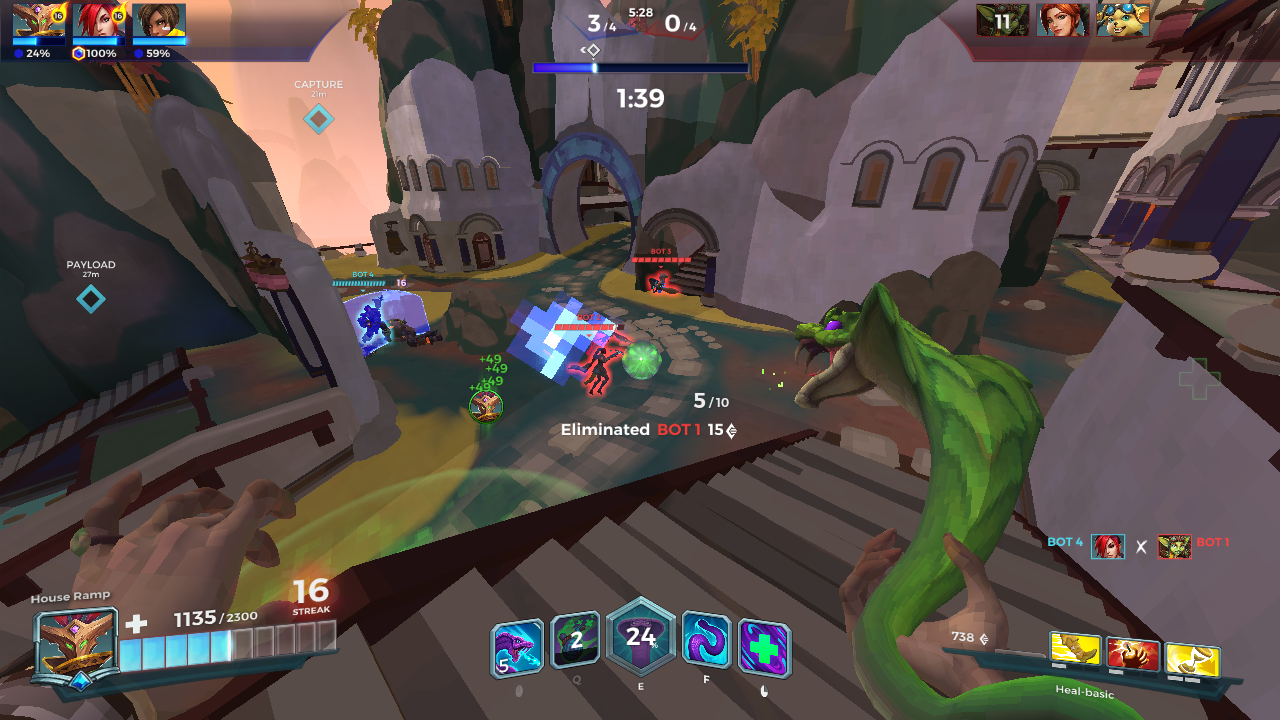model: (581, 342, 620, 400), (643, 266, 680, 300)
